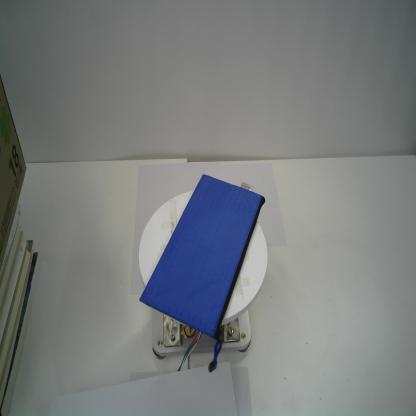Stationery: (136, 172, 266, 376)
